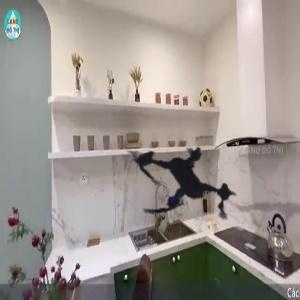drone: (84, 79, 288, 283)
